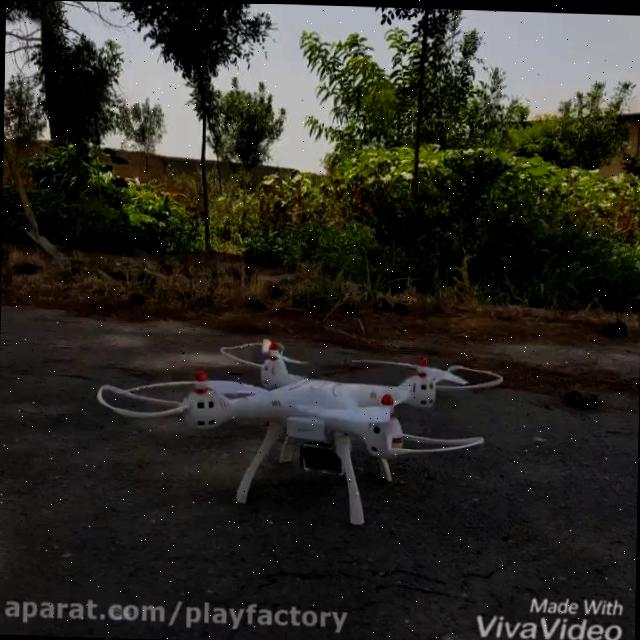drone: (89, 327, 512, 529)
